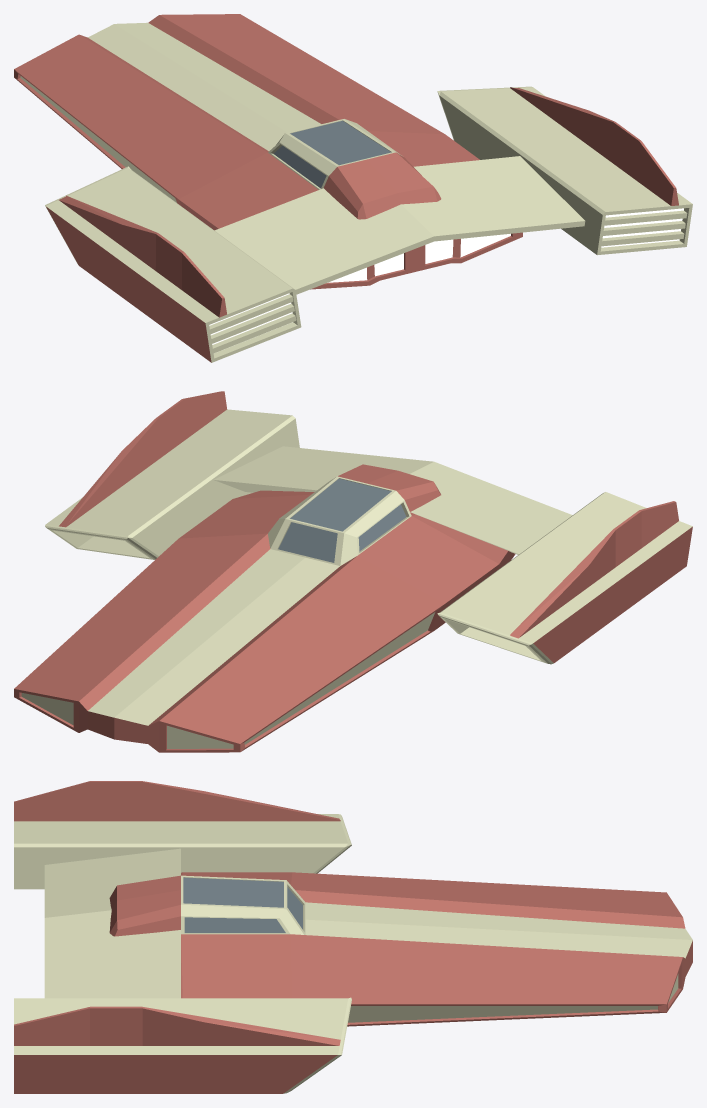
The model's file is spaceshiptest1.glb.
3 renders of one model, top to bottom at view 1: azimuth 30°, elevation 25°; view 2: azimuth 150°, elevation 25°; view 3: azimuth 270°, elevation 25°, orthographic.
Visible parts, largest first — view 1: Cube.001, Cube; view 2: Cube, Cube.001; view 3: Cube.001, Cube.
Boxes of the visible parts, x1,y1,x2,y2 form: Cube.001: [45, 86, 692, 362]; Cube: [14, 14, 522, 289]; Cube: [14, 464, 515, 752]; Cube.001: [45, 391, 692, 664]; Cube.001: [14, 781, 351, 1093]; Cube: [109, 872, 692, 1026].
Bounding box in the file's own units: 11.06 × 2.15 × 13.17.
